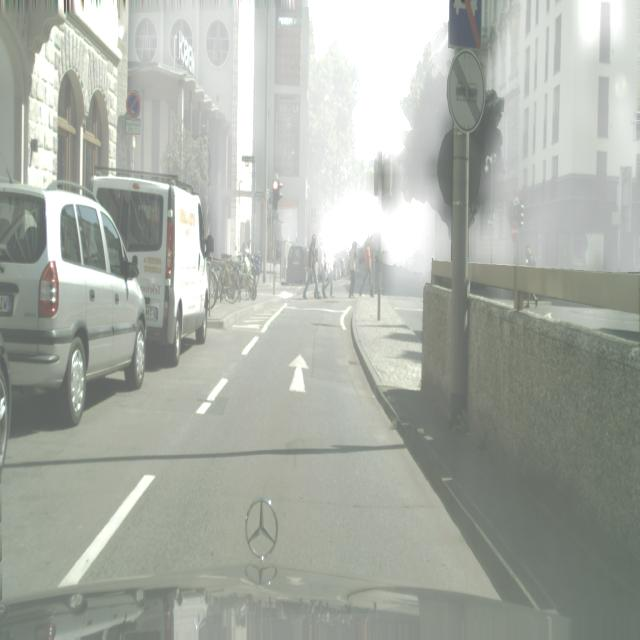car: (232, 257, 257, 299), (220, 258, 240, 302), (208, 260, 219, 310)
motorcycle: (92, 169, 210, 366)
person: (302, 234, 319, 299), (523, 245, 537, 309), (348, 240, 359, 298), (361, 242, 372, 297), (318, 234, 327, 298), (325, 238, 334, 298)
truck: (0, 180, 147, 427), (286, 244, 306, 284), (334, 244, 349, 279)
